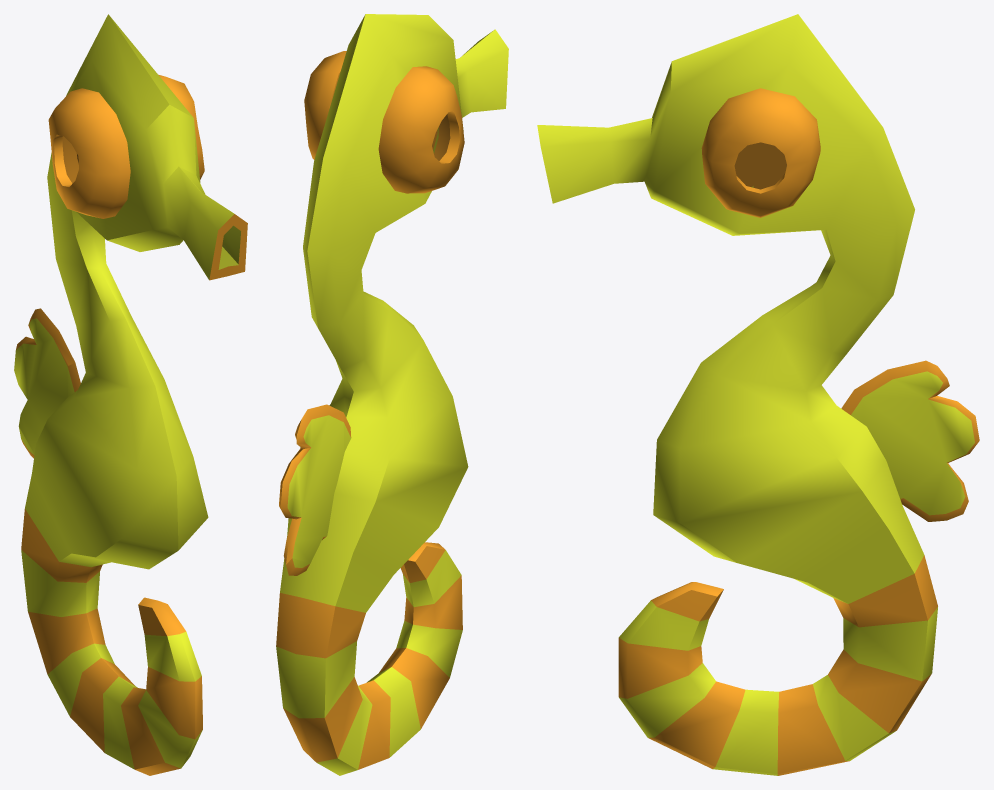
Rendered from seahorse.fbx.
3 renders of one model, left to right at view 1: azimuth 30°, elevation 25°; view 2: azimuth 150°, elevation 25°; view 3: azimuth 270°, elevation 25°, orthographic. The views are drawn at different scales.
Visible parts, largest first — view 1: seahorse; view 2: seahorse; view 3: seahorse.
Part boxes in pixels (left/top/right/bottom): seahorse: left=14, top=14, right=247, bottom=775; seahorse: left=276, top=14, right=508, bottom=775; seahorse: left=537, top=14, right=979, bottom=775.
Size of the model in its own units: 9.47 by 52 by 27.4.
